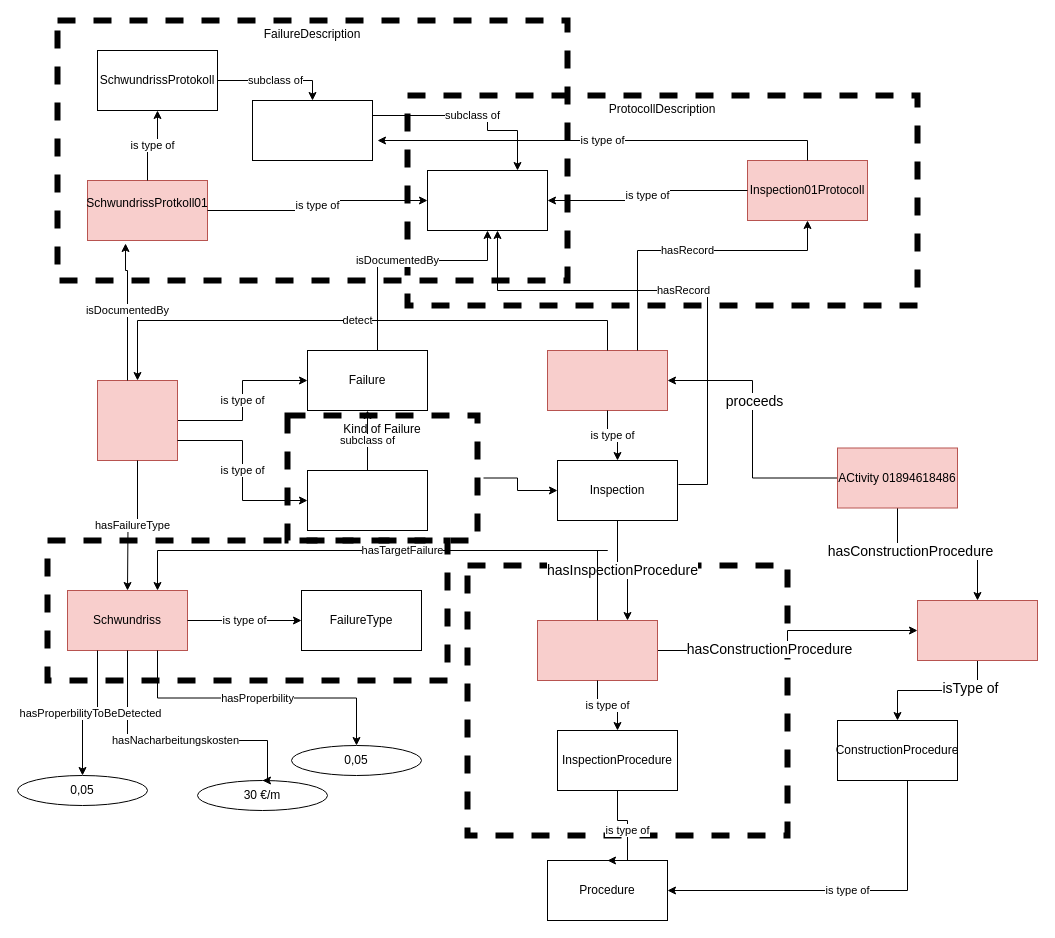
The diagram is 1055 pixels wide and 938 high, and some of its shapes have lost their labels. The box of each missing label's shape, as (x1, y1, x2, y2) in pixels:
Confirmity: (306, 470, 428, 530)
Fehler Klassifikation: (44, 537, 450, 683)
Inspection01: (546, 350, 668, 410)
Ortestrich: (916, 600, 1038, 660)
Planung: (464, 562, 790, 838)
Protokoll: (252, 100, 372, 160)
Record: (426, 170, 548, 230)
Riss01: (96, 380, 178, 460)
VisuelleRissPrüfung: (536, 620, 658, 680)
